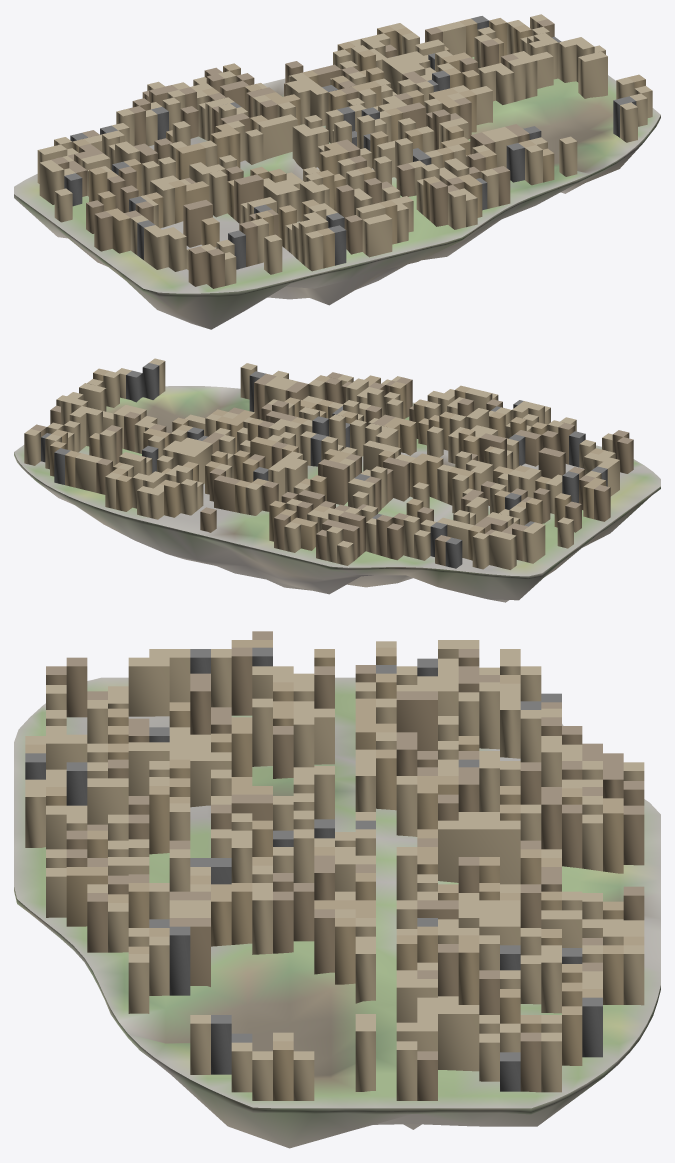
File: SKY-007.lod1.glb
The picture shows the model from 3 angles, top to bottom: view 1: azimuth 30°, elevation 25°; view 2: azimuth 150°, elevation 25°; view 3: azimuth 270°, elevation 25°; orthographic projection. The views are drawn at different scales.
Parts seen in each view (by area): view 1: warren_hull, deck, rock; view 2: warren_hull, deck, rock; view 3: warren_hull, deck, rock.
Part boxes in pixels (<box>): warren_hull: <box>37,14,652,288</box>; deck: <box>14,57,660,293</box>; rock: <box>14,115,660,329</box>; warren_hull: <box>24,358,633,569</box>; deck: <box>14,386,660,576</box>; rock: <box>14,452,660,602</box>; warren_hull: <box>25,631,644,1100</box>; deck: <box>14,677,660,1108</box>; rock: <box>14,887,660,1148</box>.
Size of the model in its own units: 296 by 88.26 by 188.
